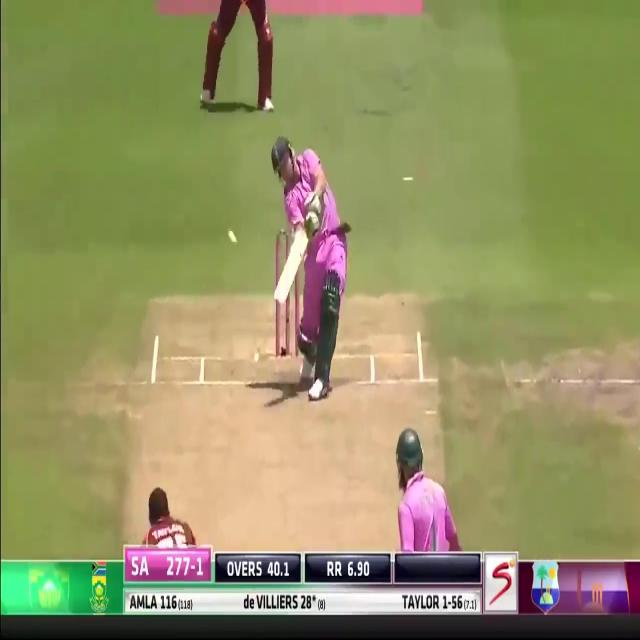Ball: (394, 428, 463, 552)
Fielder: (270, 132, 349, 398), (198, 1, 265, 111)
